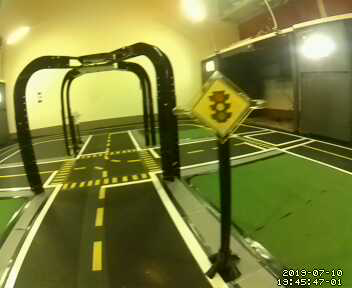Traffic light sign: (194, 79, 252, 136)
